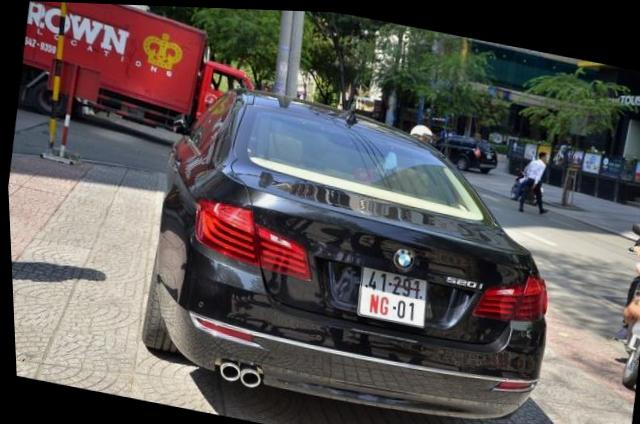License_Plate: (351, 262, 432, 331)
